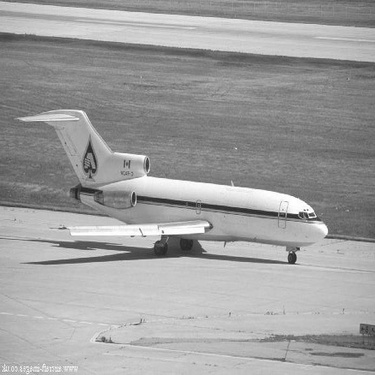airplane: (6, 104, 335, 270)
